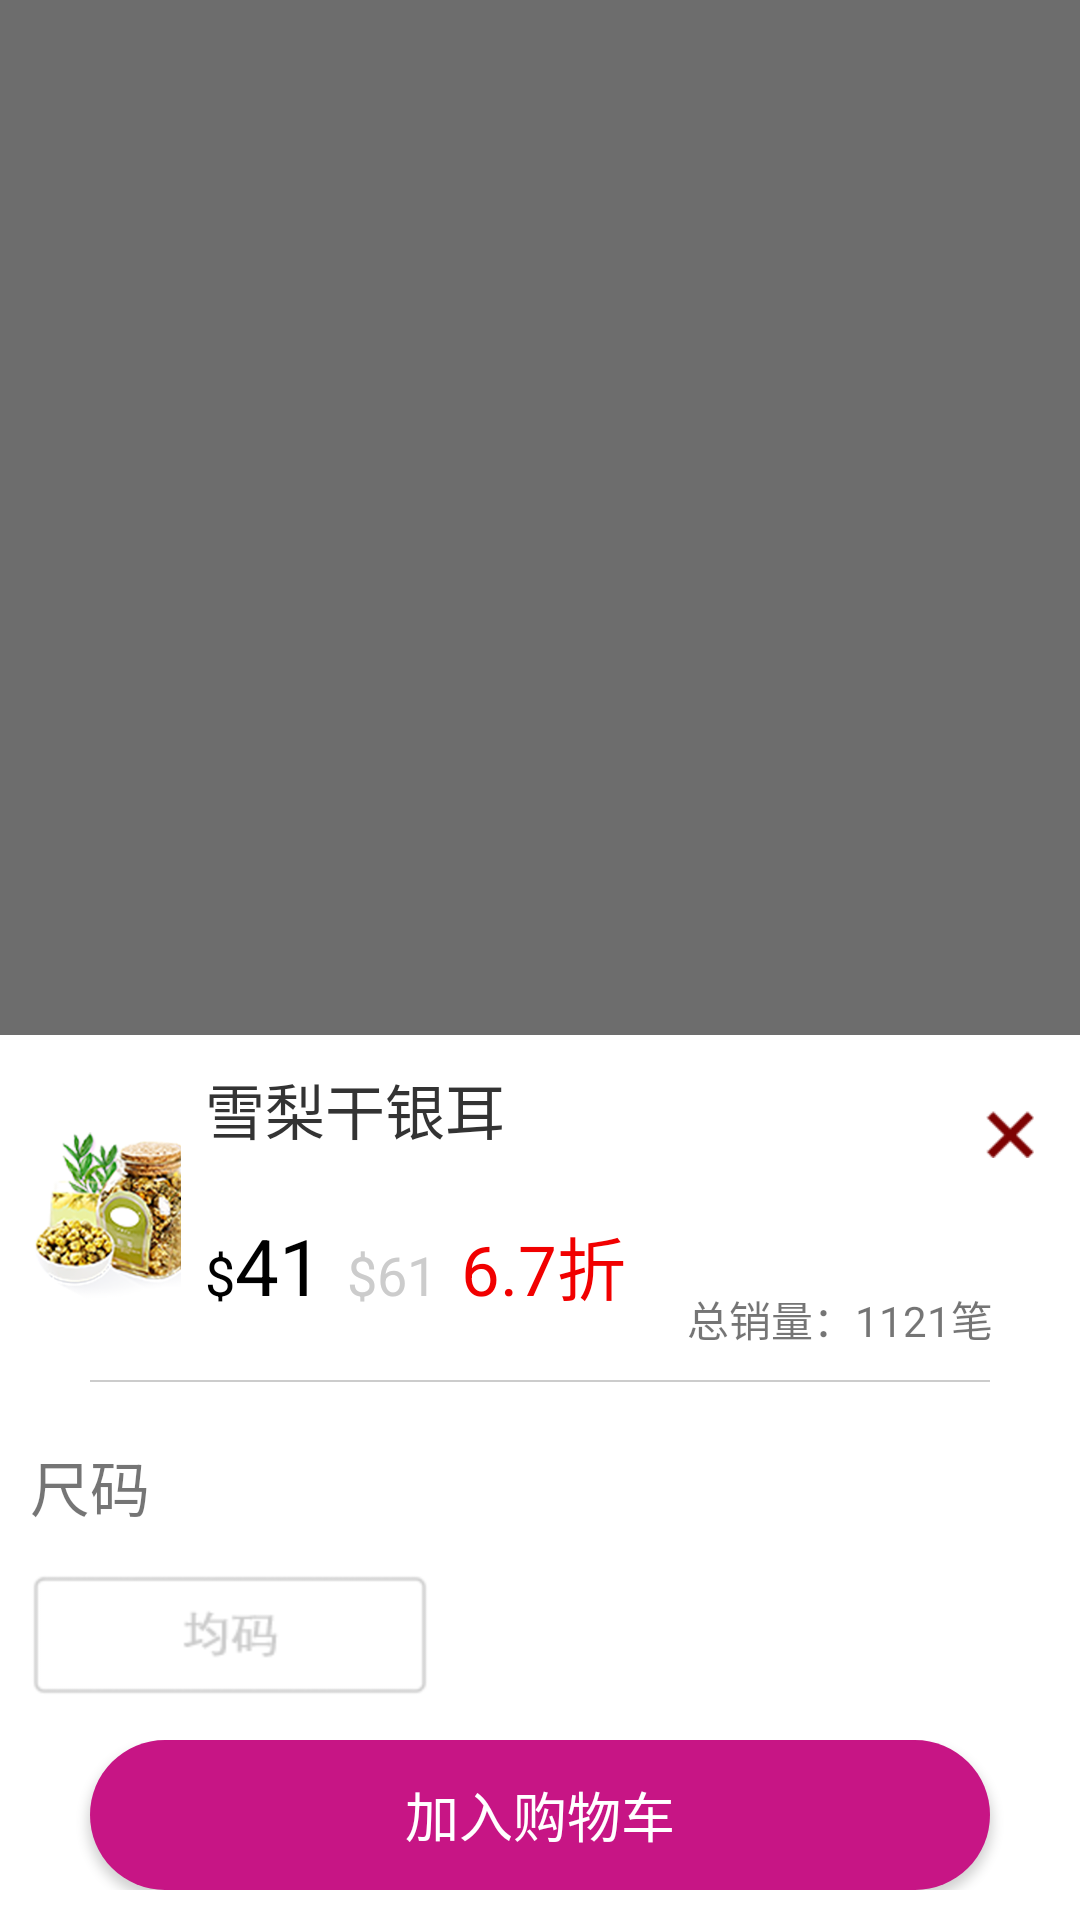

Screen size 1080px x 1920px. Icon name, then its box in pixels as (x1, y1, x2, y2):
close packet: (986, 1111, 1034, 1158)
